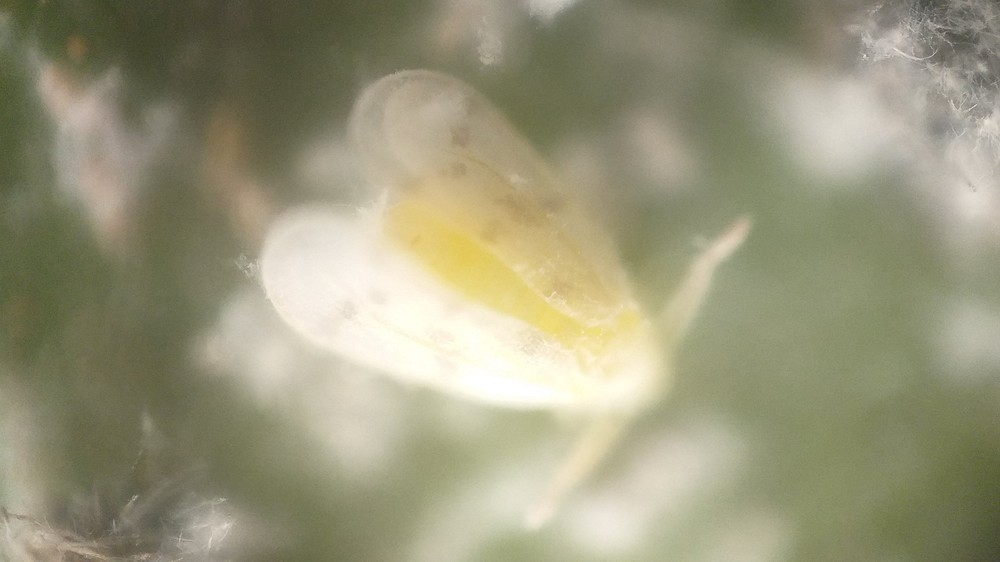Mosca Blanca: (242, 64, 787, 536)
